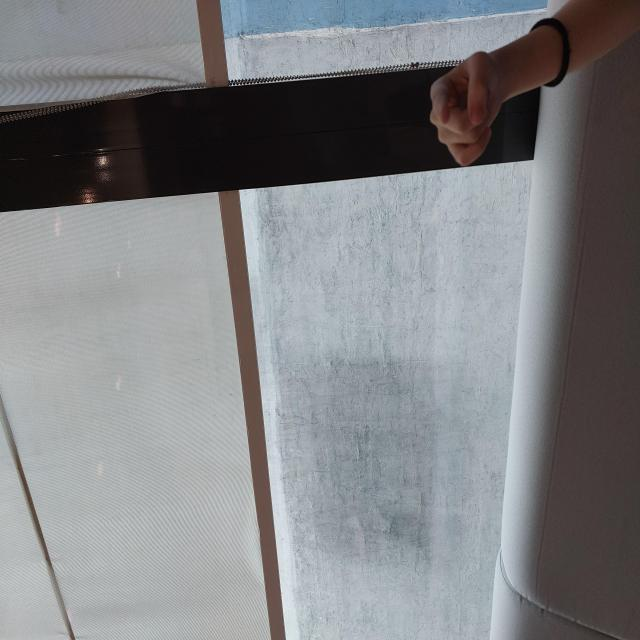Z: (471, 430, 589, 498)
